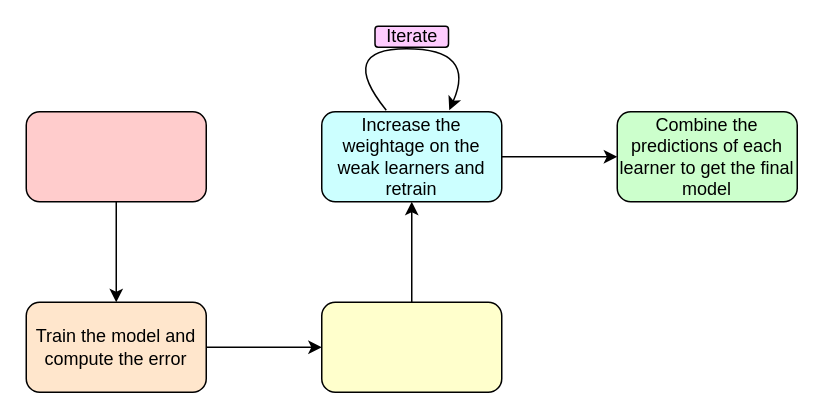
This 824x419 diagram has some shape labels left out. Here are the shapes that lost their labels. From the top down, the box of each, then its label:
(25, 110, 206, 202): All samples are given equal weightage
(320, 301, 502, 392): Train model again but give more weightage to weak learners
